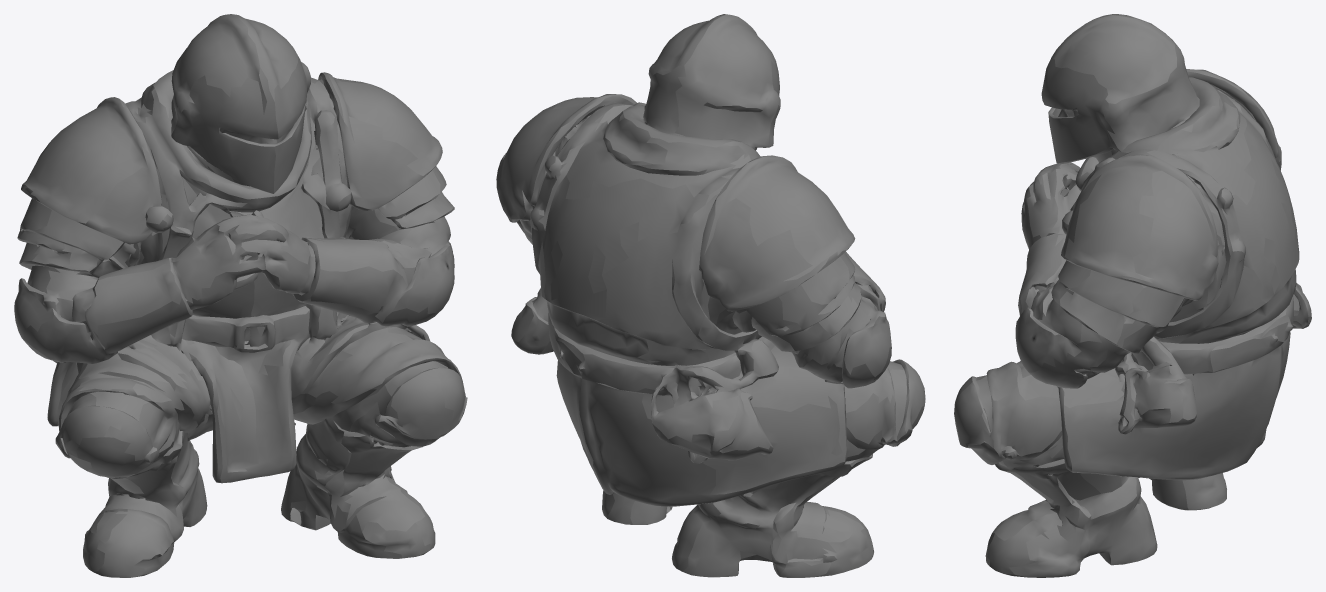
The model's file is completion_dwarf_1.glb.
3 renders of one model, left to right at view 1: azimuth 30°, elevation 25°; view 2: azimuth 150°, elevation 25°; view 3: azimuth 270°, elevation 25°, orthographic. The views are drawn at different scales.
Parts seen in each view (by area): view 1: geometry_0; view 2: geometry_0; view 3: geometry_0.
Boxes of the visible parts, x1,y1,x2,y2 form: geometry_0: (14, 14, 467, 577); geometry_0: (496, 14, 925, 577); geometry_0: (954, 14, 1311, 577).
Bounding box in the file's own units: 0.8048 × 1 × 0.653.
1 material, 1 textured.
